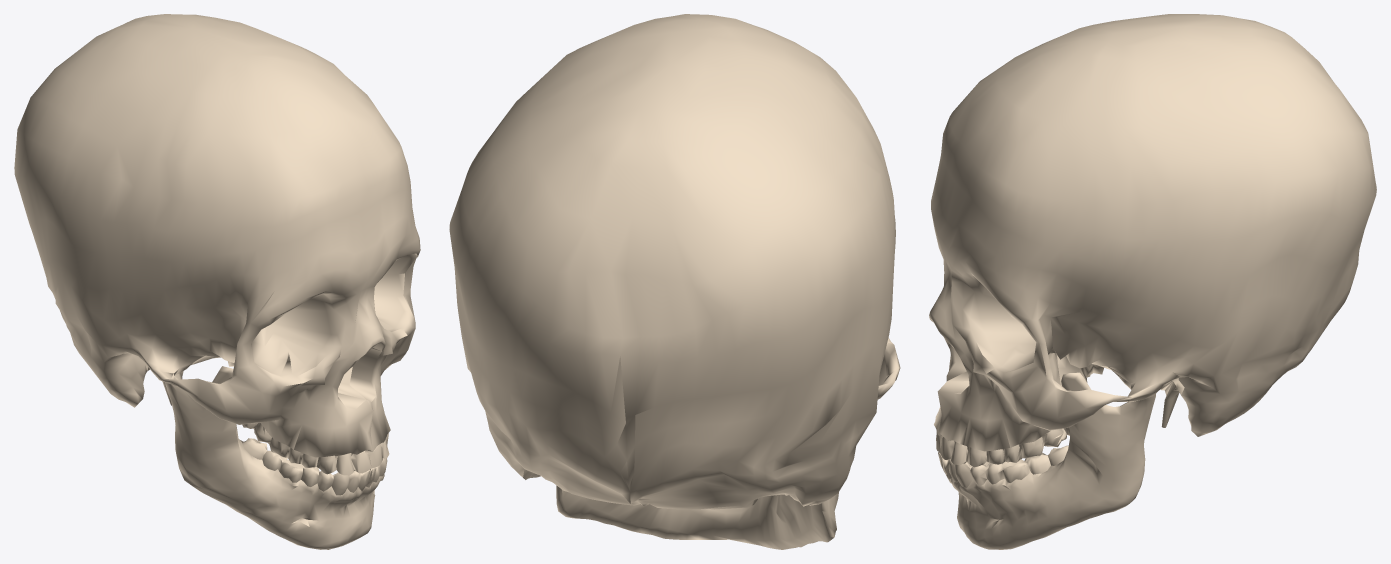
File: skull.obj
3 renders of one model, left to right at view 1: azimuth 30°, elevation 25°; view 2: azimuth 150°, elevation 25°; view 3: azimuth 270°, elevation 25°, orthographic. The views are drawn at different scales.
Bounding box in the file's own units: 5.23 × 7.32 × 6.14.
